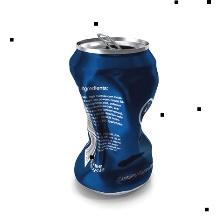can: (63, 28, 161, 200)
